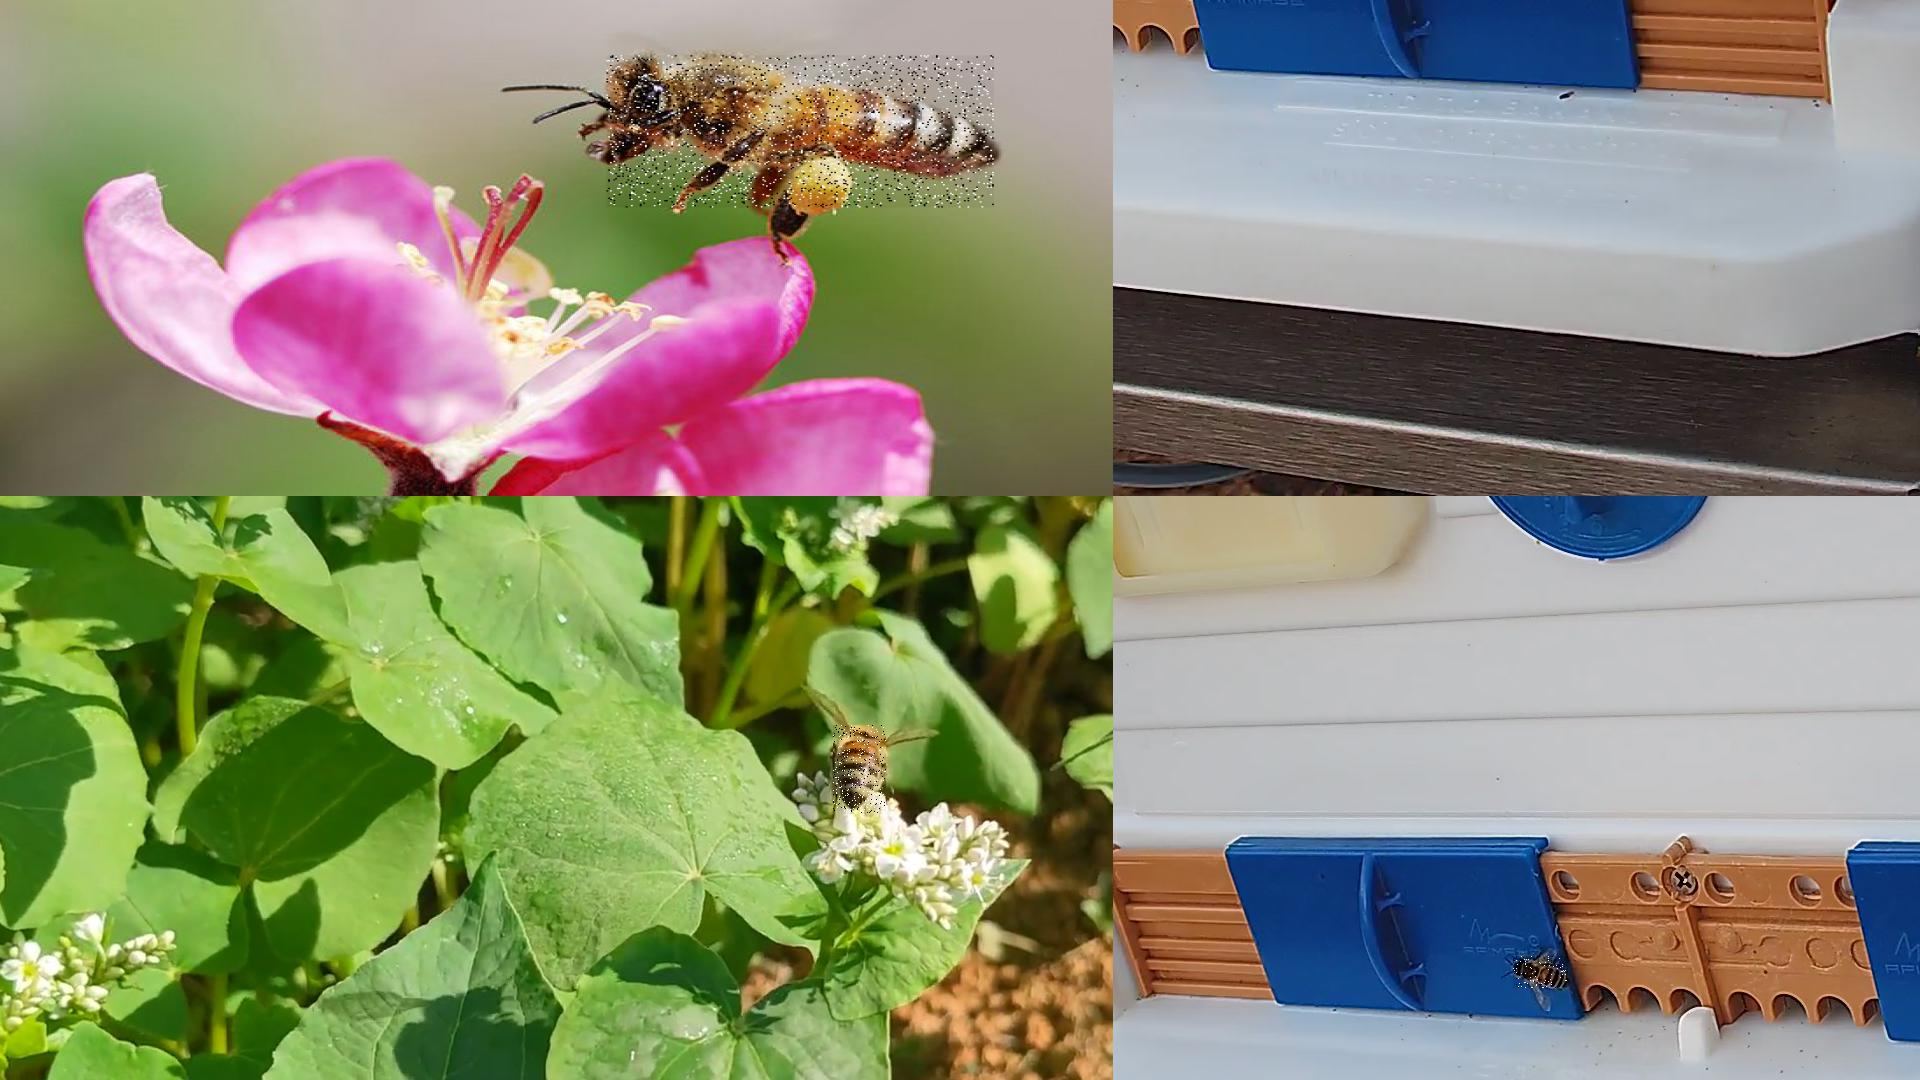bee: (833, 725, 887, 815), (1513, 956, 1569, 989)
pollenbee: (607, 55, 996, 208)
